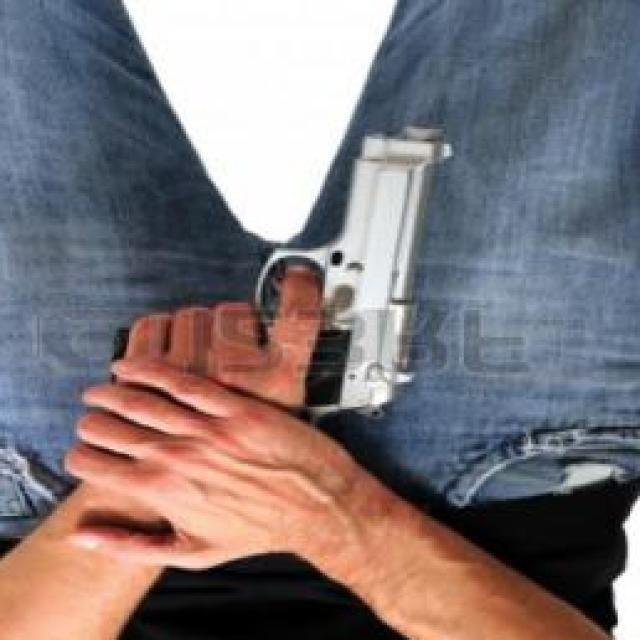pistol: (104, 124, 453, 456)
